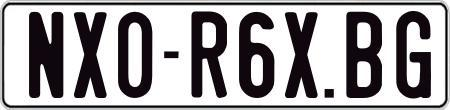0: (116, 10, 152, 101)
6: (237, 11, 278, 98)
B: (345, 11, 387, 102)
G: (396, 10, 435, 100)
N: (29, 12, 69, 104)
R: (190, 11, 226, 100)
X: (74, 9, 109, 95), (282, 9, 315, 98)
